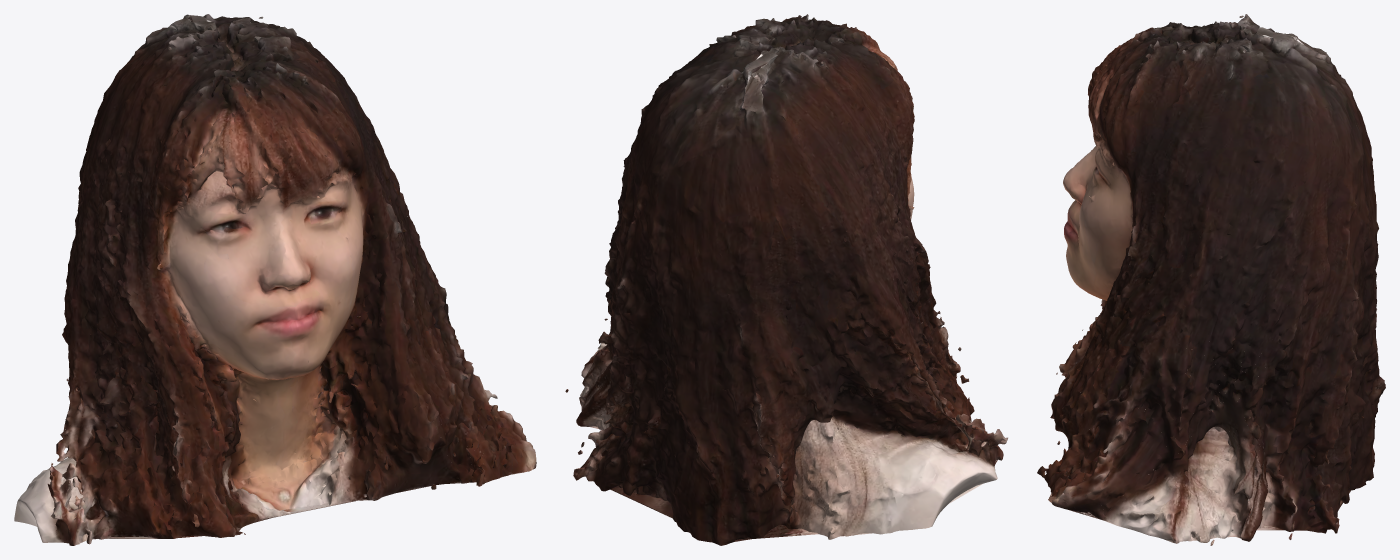
File: 真人头像_女_长卷齐刘海01_opt.glb
3 renders of one model, left to right at view 1: azimuth 30°, elevation 25°; view 2: azimuth 150°, elevation 25°; view 3: azimuth 270°, elevation 25°, orthographic. The views are drawn at different scales.
Visible parts, largest first — view 1: material_0, material_0_1, material_0_2, material_0_3; view 2: material_0, material_0_1, material_0_2; view 3: material_0, material_0_2, material_0_1, material_0_3.
Part boxes in pixels (x1,y1,x2,y2): material_0: (14, 14, 461, 545); material_0_1: (15, 14, 460, 545); material_0_2: (92, 14, 536, 539); material_0_3: (82, 15, 536, 542); material_0: (573, 14, 1007, 545); material_0_1: (573, 16, 1007, 540); material_0_2: (566, 42, 996, 540); material_0: (1050, 14, 1385, 543); material_0_2: (1037, 23, 1350, 544); material_0_1: (1052, 16, 1383, 543); material_0_3: (1043, 18, 1340, 545).
Bounding box in the file's own units: 0.2941 × 0.3 × 0.2149.
Materials: 1 (1 with a texture image).
